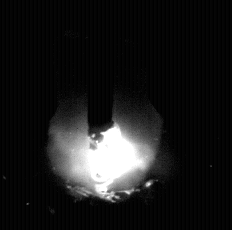arame: (88, 0, 114, 142)
poca: (48, 0, 159, 230)
